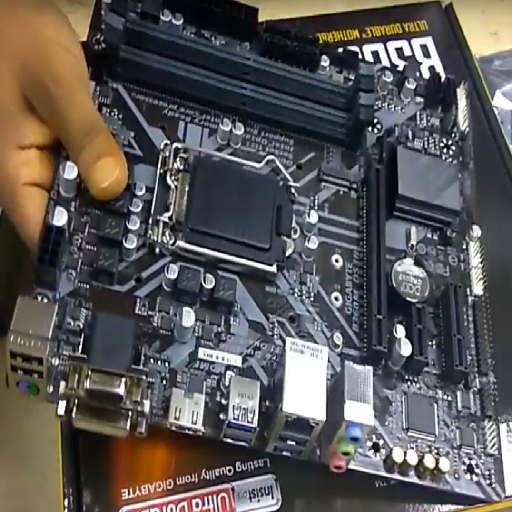CPU: (160, 150, 300, 270)
GPU: (360, 155, 391, 363)
MOTHERBOARD: (17, 5, 504, 505)
RAM: (93, 2, 376, 144)
SSD: (316, 160, 360, 189)
